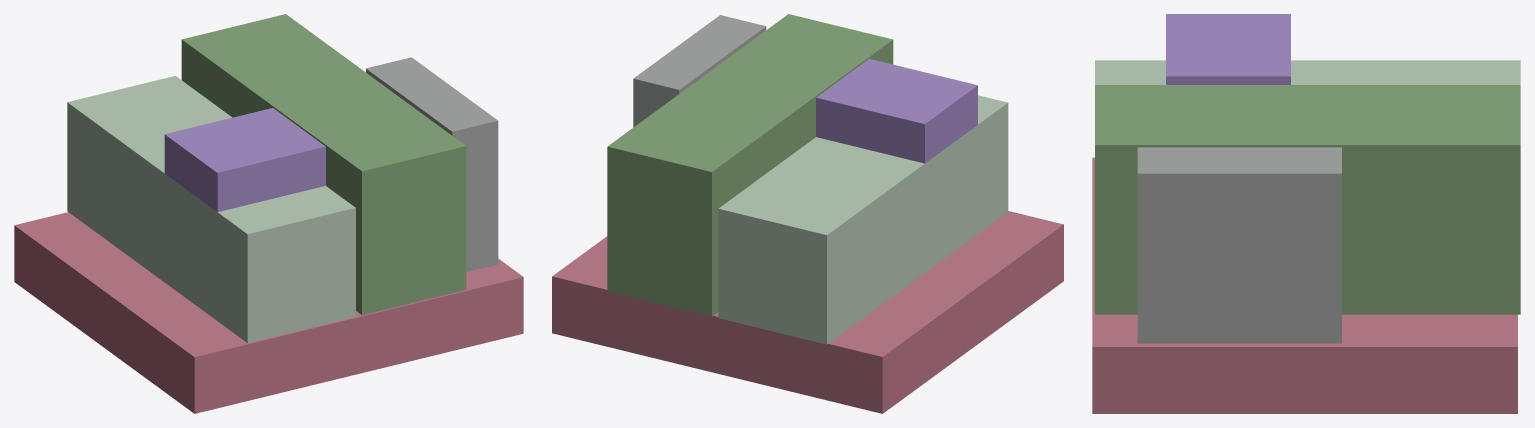
3 views of the same model, side by side, from view 1: azimuth 30°, elevation 25°; view 2: azimuth 150°, elevation 25°; view 3: azimuth 270°, elevation 25° (orthographic). The views are drawn at different scales.
Parts seen in each view (by area): view 1: world; view 2: world; view 3: world.
Boxes of the visible parts, x1,y1,x2,y2 form: world: [14, 14, 523, 413]; world: [552, 14, 1063, 413]; world: [1092, 14, 1520, 413].
Bounding box in the file's own units: 7.9 × 4.7 × 7.55.
